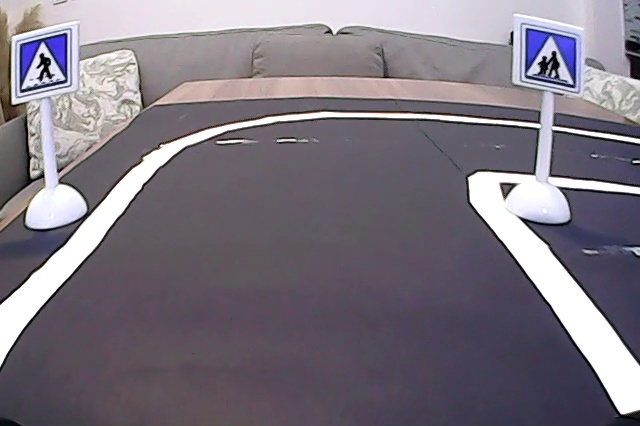pedestrian crossing: (14, 32, 76, 97)
school crossing: (520, 23, 580, 92)
